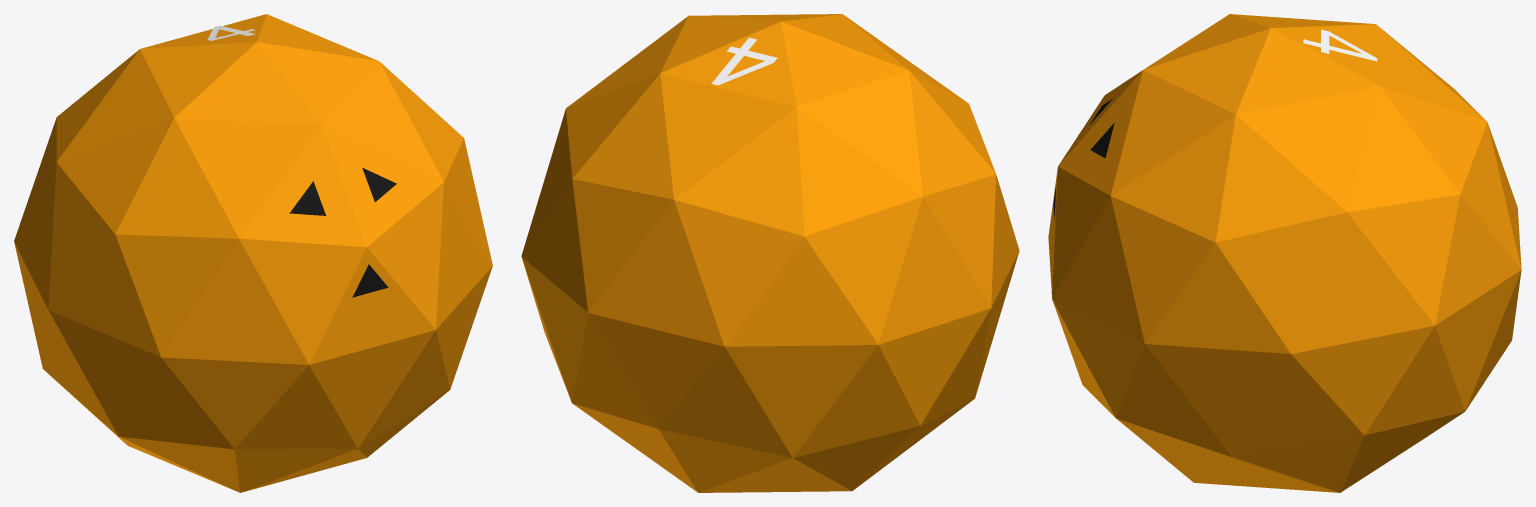
Rendered from Bowling_Ball_4.fbx.
3 views of the same model, side by side, from view 1: azimuth 30°, elevation 25°; view 2: azimuth 150°, elevation 25°; view 3: azimuth 270°, elevation 25° (orthographic). The views are drawn at different scales.
Parts seen in each view (by area): view 1: Bowling_Ball_4; view 2: Bowling_Ball_4; view 3: Bowling_Ball_4.
Boxes of the visible parts, x1,y1,x2,y2 form: Bowling_Ball_4: [14, 14, 492, 492]; Bowling_Ball_4: [521, 14, 1019, 492]; Bowling_Ball_4: [1048, 14, 1521, 492].
Bounding box in the file's own units: 28.65 × 28.61 × 27.42.
